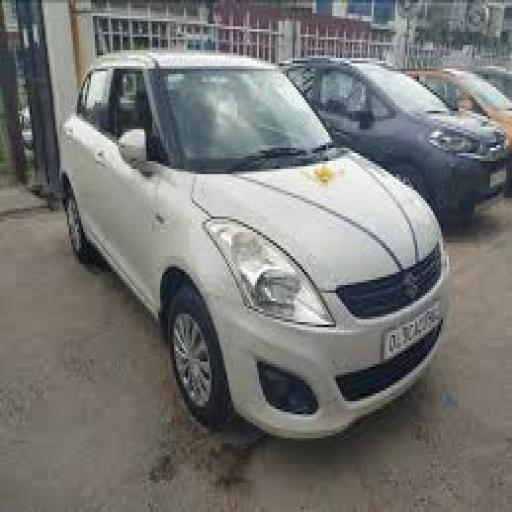License: (378, 304, 446, 356)
